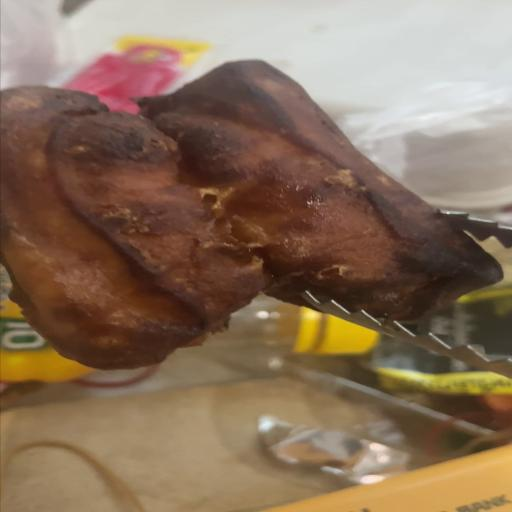street_burnt_defect: (0, 62, 502, 380)
